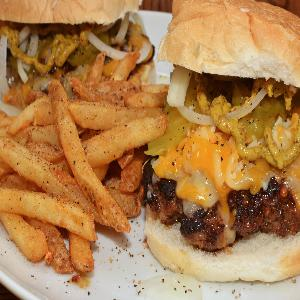cheeseburger_475cal: (153, 3, 300, 291)
fries_350cal: (5, 64, 162, 286)
